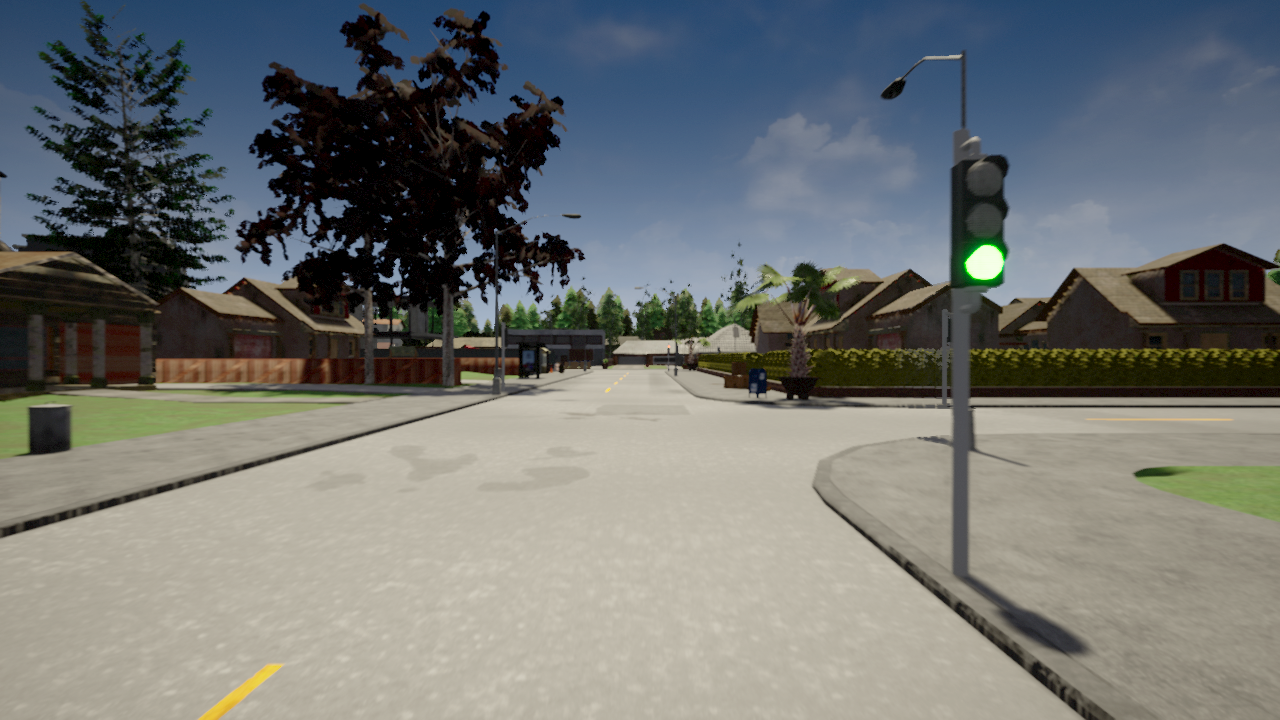green: (945, 153, 1010, 289)
